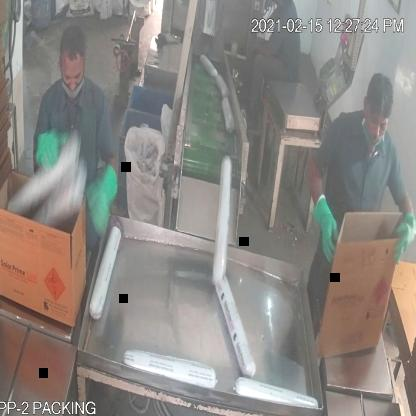glove: (314, 182, 343, 264), (86, 164, 118, 237), (388, 197, 416, 258), (34, 120, 60, 177)
